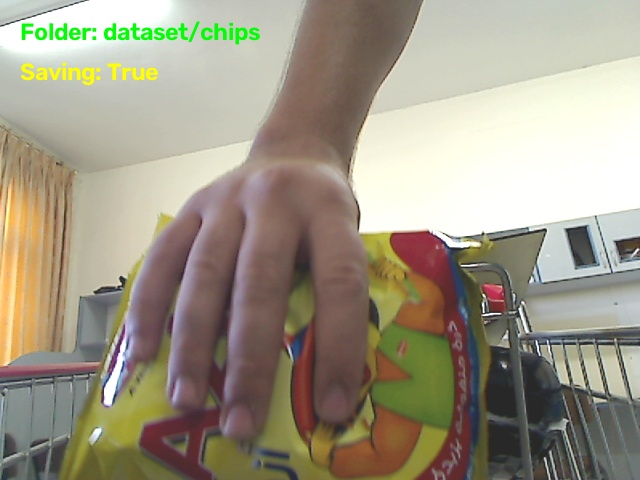chips: (61, 231, 488, 479)
